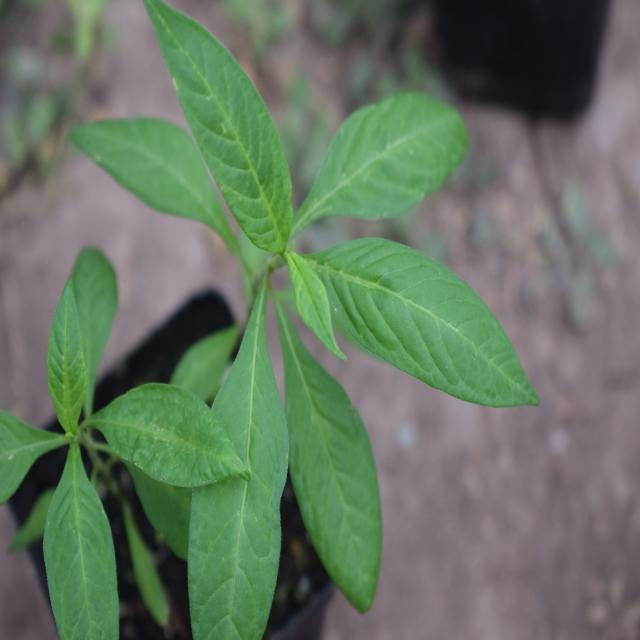white_smart_weed: (64, 0, 512, 601)
